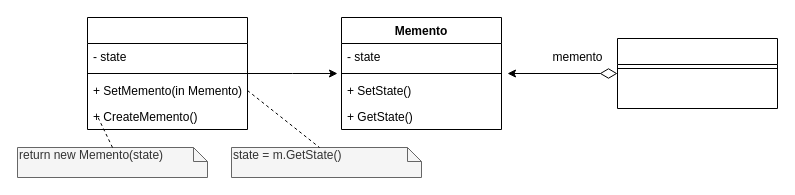
Image size: 795x195. Some labels were removed from this diagram. The box of each missing label's shape, as (x1, y1, x2, y2) in pixels:
Caretaker: (616, 38, 778, 108)
Originator: (86, 16, 248, 130)
